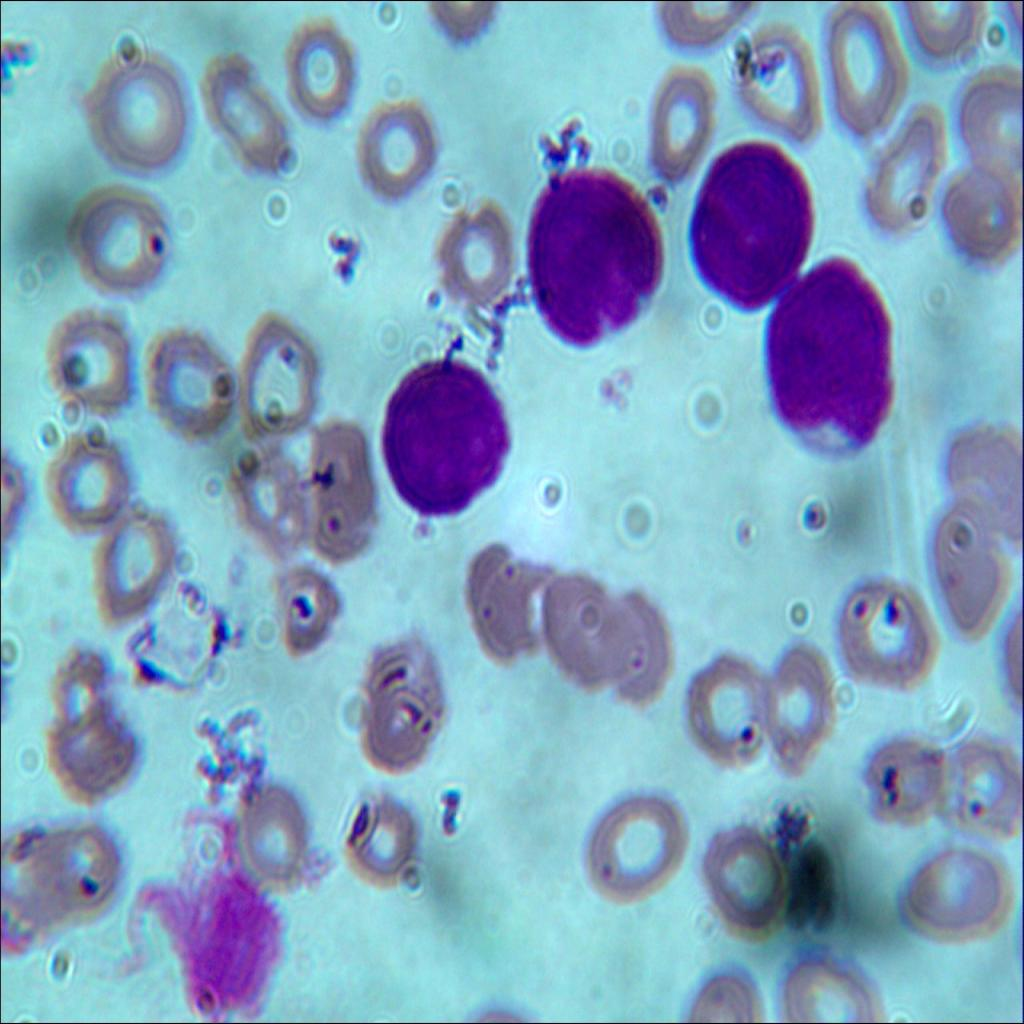Eritrosit: (46, 648, 142, 808), (836, 565, 943, 704), (582, 779, 686, 917), (59, 183, 176, 304), (346, 630, 446, 758), (210, 431, 310, 557), (89, 497, 190, 618), (83, 56, 194, 166), (846, 721, 951, 834), (300, 418, 386, 555), (922, 501, 1008, 635), (206, 59, 302, 178), (39, 296, 139, 408), (135, 321, 238, 429), (826, 5, 906, 144), (735, 31, 824, 154), (860, 91, 942, 222), (676, 641, 770, 754), (8, 824, 116, 922), (638, 61, 720, 189), (706, 804, 790, 928), (223, 785, 326, 885), (899, 847, 1006, 942), (448, 534, 534, 652), (756, 644, 844, 758), (238, 310, 322, 428), (544, 578, 634, 687), (943, 425, 1023, 547), (279, 15, 359, 131), (778, 938, 886, 1023), (601, 580, 671, 708), (260, 564, 346, 668), (40, 424, 134, 518), (344, 94, 433, 191), (946, 732, 1022, 837), (436, 205, 518, 301), (888, 0, 988, 74), (952, 164, 1022, 265), (354, 790, 418, 892), (963, 68, 1023, 172)
Limfoblast: (766, 248, 898, 452), (531, 168, 675, 346), (375, 358, 519, 525), (682, 144, 815, 310)
Platelet: (146, 214, 181, 269), (732, 715, 770, 758), (958, 794, 995, 831), (798, 498, 828, 539), (495, 552, 522, 594), (471, 584, 493, 632), (595, 854, 621, 891), (881, 592, 904, 627), (846, 598, 870, 630)
